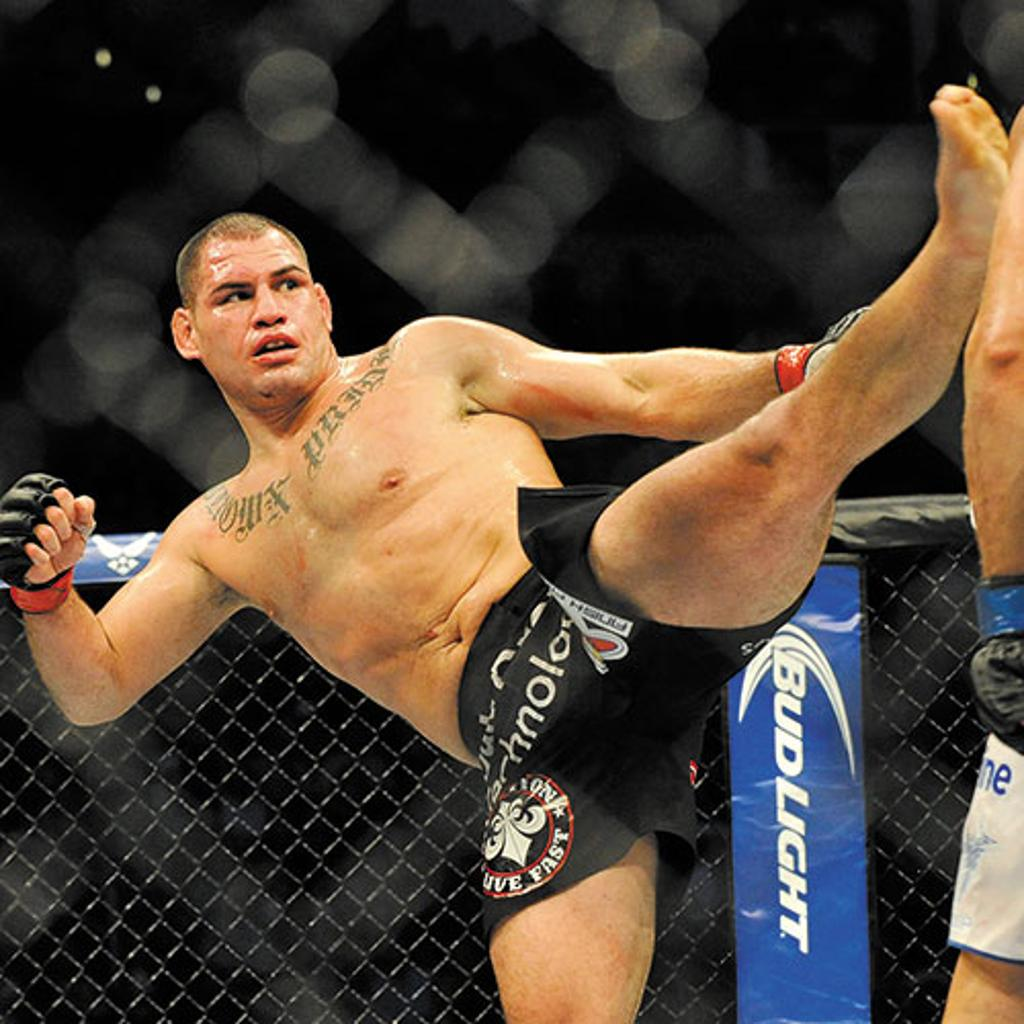face: (204, 232, 324, 394)
